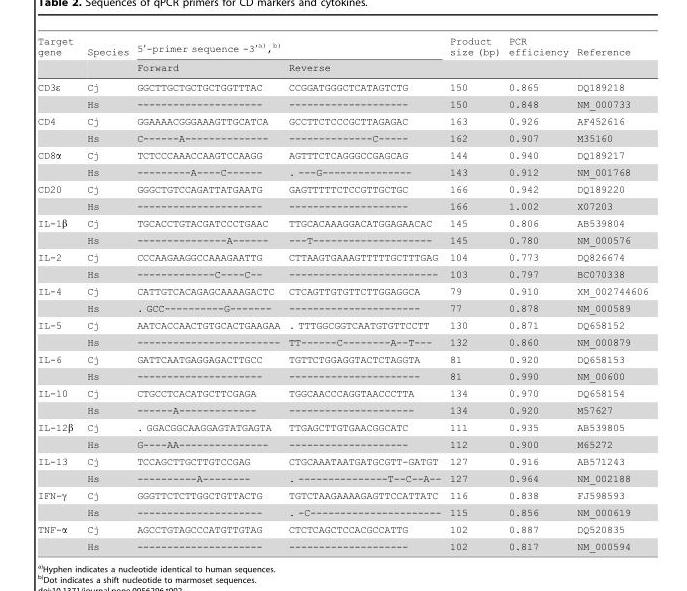table: (37, 36, 647, 551)
table column: (283, 36, 444, 551), (132, 36, 283, 551), (571, 36, 647, 551), (504, 36, 571, 551), (444, 36, 504, 551), (79, 36, 132, 551), (37, 36, 79, 551)
table column header: (37, 36, 647, 77)
table row: (37, 36, 647, 60), (37, 77, 647, 96), (37, 146, 647, 164), (37, 214, 647, 232), (37, 60, 647, 77), (37, 96, 647, 113), (37, 113, 647, 130), (37, 164, 647, 181), (37, 181, 647, 198), (37, 232, 647, 249), (37, 249, 647, 266), (37, 266, 647, 283), (37, 283, 647, 300), (37, 300, 647, 317), (37, 317, 647, 334), (37, 334, 647, 351), (37, 351, 647, 368), (37, 368, 647, 385), (37, 385, 647, 402), (37, 402, 647, 419), (37, 419, 647, 436), (37, 436, 647, 453), (37, 453, 647, 470), (37, 470, 647, 487), (37, 487, 647, 504), (37, 504, 647, 521), (37, 521, 647, 538), (37, 130, 647, 146), (37, 198, 647, 214), (37, 538, 647, 551)
table spanning cell: (132, 36, 444, 60), (571, 36, 647, 77), (504, 36, 571, 77), (444, 36, 504, 77), (79, 36, 132, 77), (37, 36, 79, 77), (37, 77, 79, 113), (37, 146, 79, 181), (37, 214, 79, 249), (37, 249, 79, 283), (37, 283, 79, 317), (37, 317, 79, 351), (37, 351, 79, 385), (37, 385, 79, 419), (37, 419, 79, 453), (37, 453, 79, 487), (37, 487, 79, 521), (37, 113, 79, 146), (37, 181, 79, 214), (37, 521, 79, 551)
